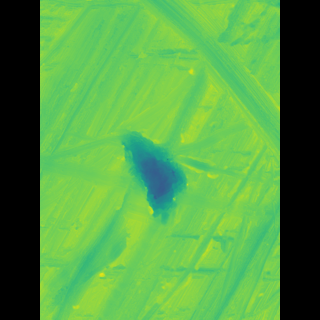Loch: (142, 2, 251, 172), (183, 140, 240, 317), (125, 119, 183, 233)
